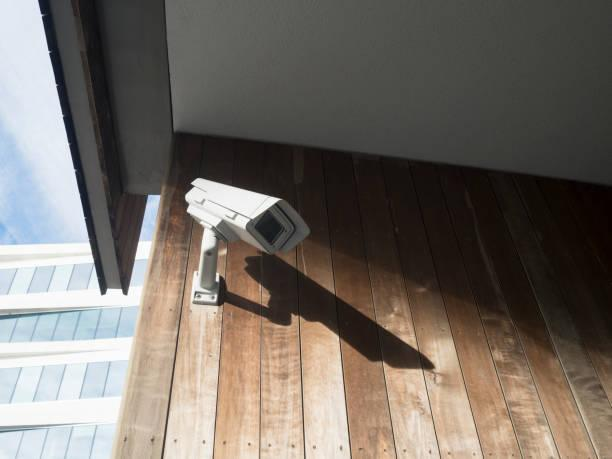camera: (168, 161, 318, 314)
